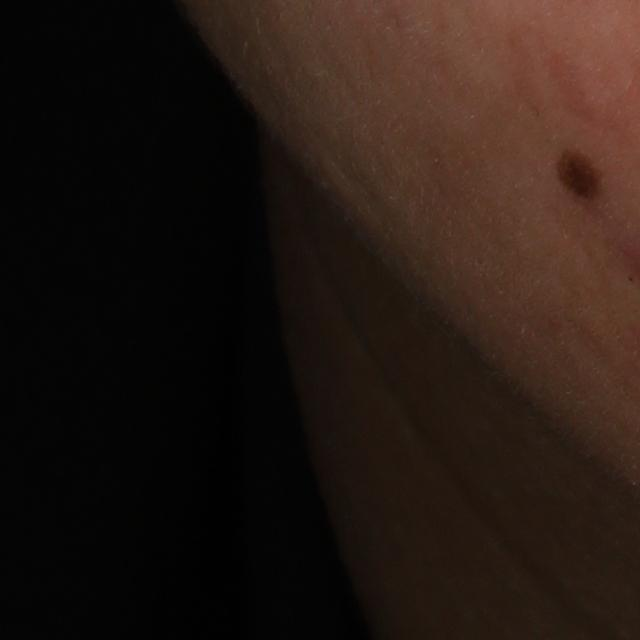nevus: (552, 147, 612, 206)
